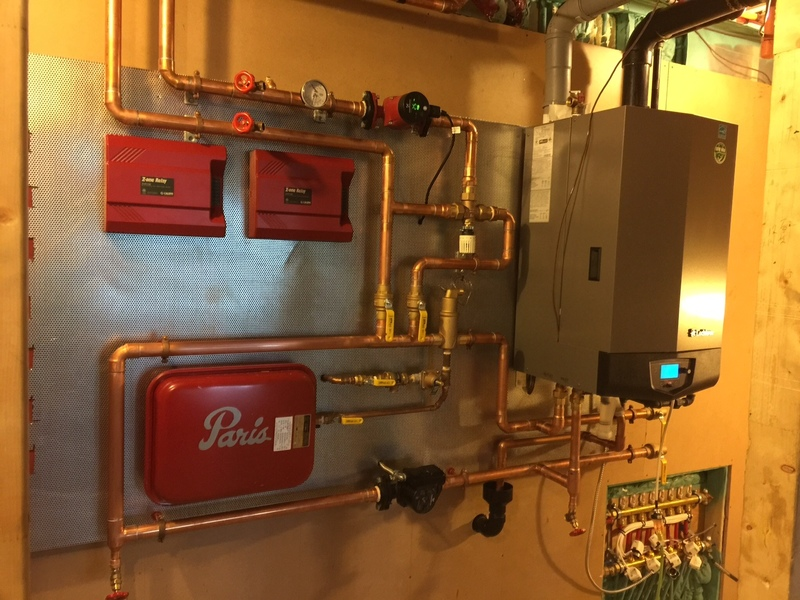valve: (364, 285, 398, 348), (316, 408, 366, 433), (649, 398, 671, 449), (651, 441, 670, 492), (359, 371, 402, 390), (411, 293, 427, 341)
